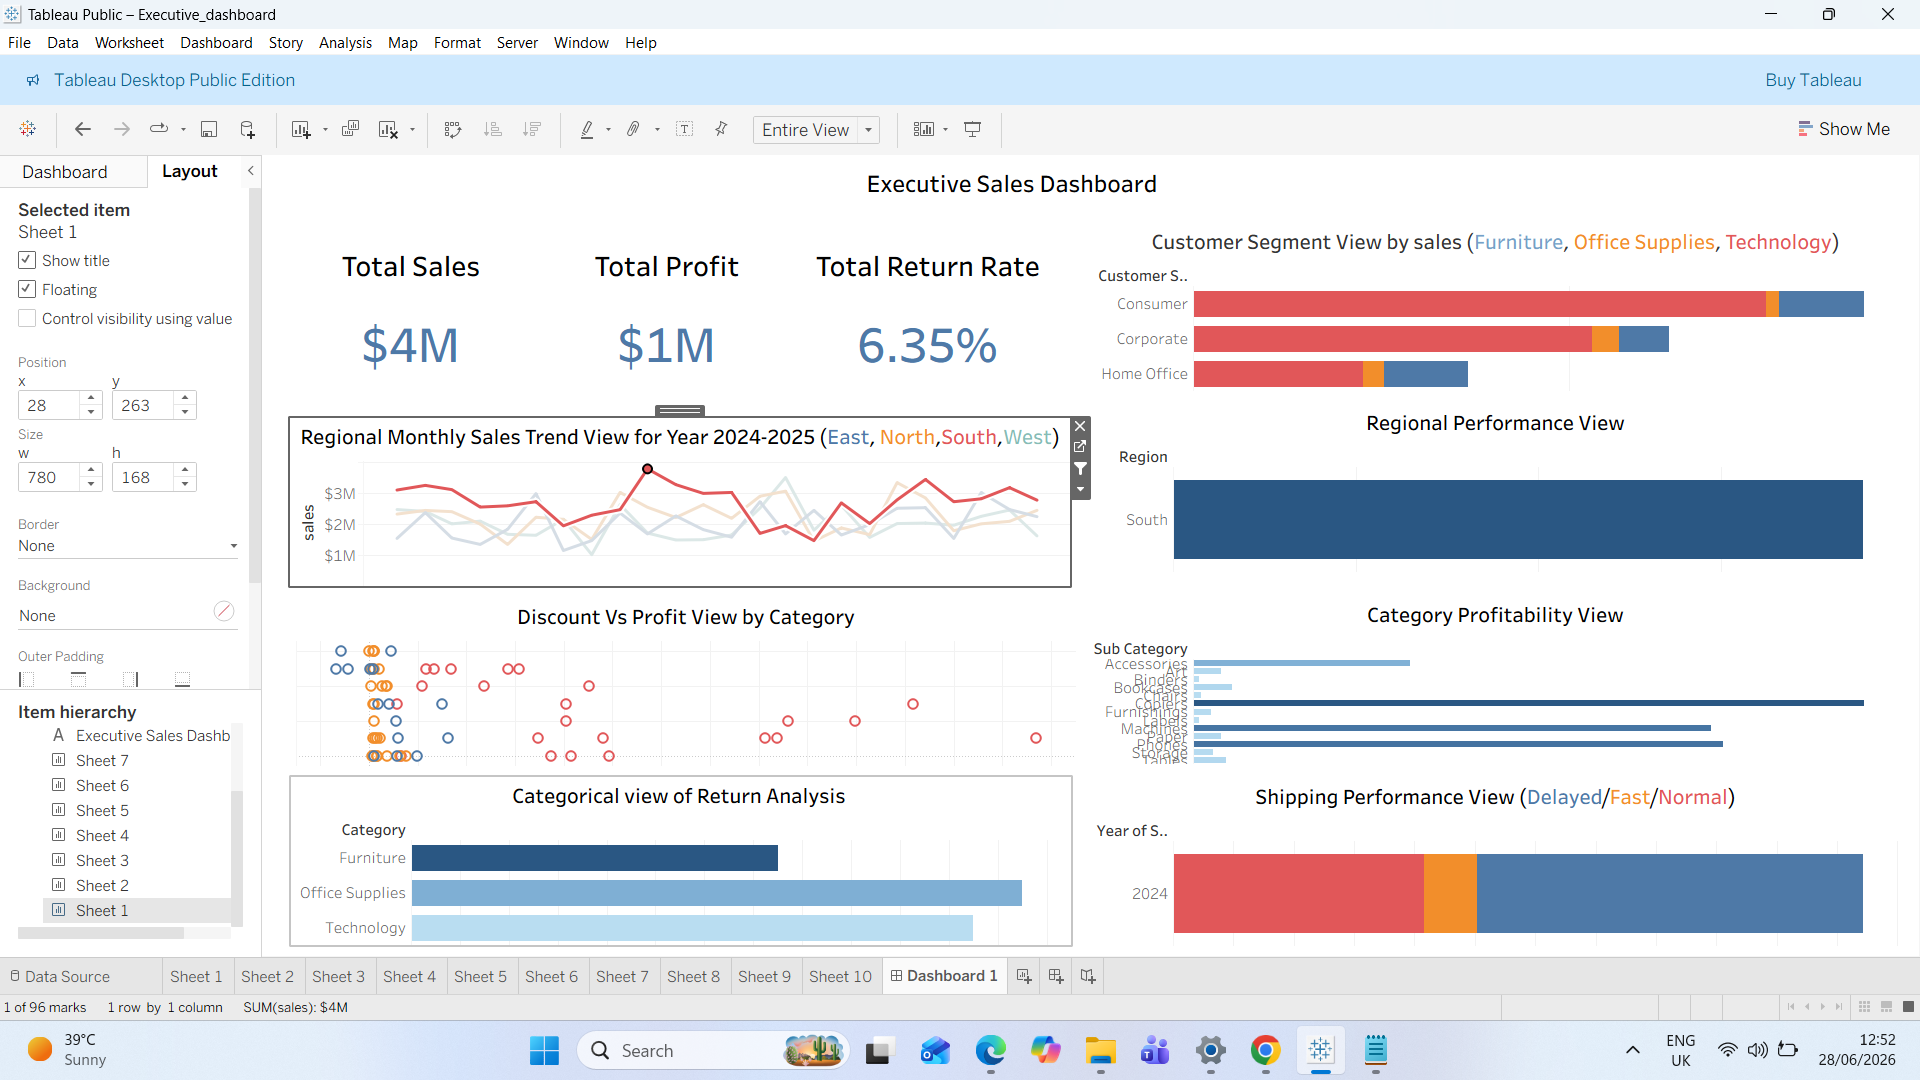

This screenshot's page, from the dashboard's own definition file:
{"tool":"tableau","page":{"name":"Dashboard 1","canvas":[1000,1000],"units":"permille","ordinal":0},"visuals":[{"type":"text","box":[362.7,15,179.8,40]},{"type":"worksheet","title":"Sheet 4","mark":"Automatic","rows":["customer_segment"],"cols":["sales"],"box":[501.5,84.9,485.8,209.7]},{"type":"worksheet","title":"Sheet 8","mark":"Automatic","box":[16.9,109.9,146.1,186]},{"type":"worksheet","title":"Sheet 9","mark":"Automatic","box":[171.4,109.9,146.1,186]},{"type":"worksheet","title":"Sheet 10","mark":"Automatic","box":[328.9,109.9,146.1,186]},{"type":"worksheet","title":"Sheet 2","mark":"Automatic","rows":["region"],"cols":["sales"],"box":[501.5,310.9,485.8,209.7]},{"type":"worksheet","title":"Sheet 1","mark":"Automatic","rows":["sales"],"cols":["order_date"],"box":[16.9,328.3,470.7,209.7]},{"type":"worksheet","title":"Sheet 3","mark":"Automatic","rows":["sub_category"],"cols":["profit"],"box":[501.5,550.6,485.8,209.7]},{"type":"worksheet","title":"Sheet 6","mark":"Automatic","rows":["discount"],"cols":["profit"],"box":[20.5,553.1,470.7,209.7]},{"type":"worksheet","title":"Sheet 7","mark":"Automatic","rows":["category"],"cols":["return_flag"],"box":[17.5,776.5,470.7,209.7]},{"type":"worksheet","title":"Sheet 5","mark":"Bar","rows":["ship_date"],"cols":["delivery_days"],"box":[501.5,777.8,485.8,209.7]}]}

Visuals, with their boxes on the dashboard's canvas, which has no fixed pixel size, in thousandths of its width and height (x1, y1, x2, y2). These are canvas units, not pixel positions in the 1920x1080 screenshot, which may show the page scaled, cropped or inside an application window:
text: 363, 15, 542, 55
"Sheet 4" worksheet: 502, 85, 987, 295
"Sheet 8" worksheet: 17, 110, 163, 296
"Sheet 9" worksheet: 171, 110, 318, 296
"Sheet 10" worksheet: 329, 110, 475, 296
"Sheet 2" worksheet: 502, 311, 987, 521
"Sheet 1" worksheet: 17, 328, 488, 538
"Sheet 3" worksheet: 502, 551, 987, 760
"Sheet 6" worksheet: 20, 553, 491, 763
"Sheet 7" worksheet: 18, 776, 488, 986
"Sheet 5" worksheet (Bar marks): 502, 778, 987, 988
